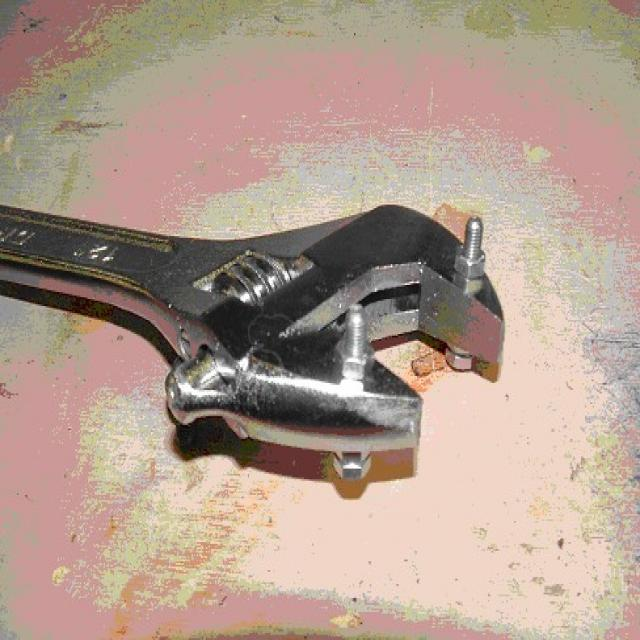wrench: (0, 183, 515, 505)
